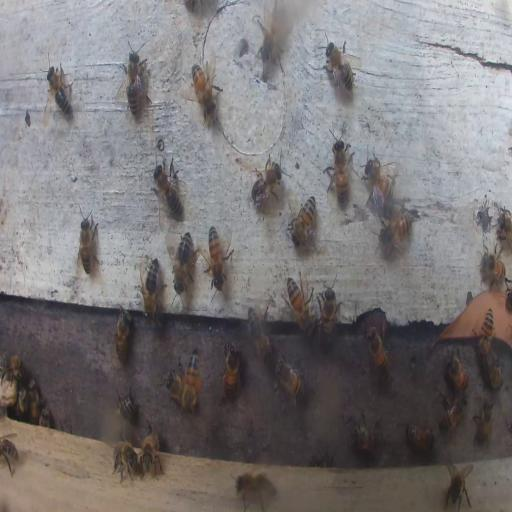bee: (323, 121, 353, 205), (284, 276, 318, 337), (121, 42, 148, 118), (191, 58, 222, 124), (380, 200, 414, 256), (153, 157, 183, 220), (256, 6, 284, 73), (323, 40, 356, 96), (249, 157, 283, 211), (363, 154, 397, 208), (275, 356, 306, 410), (206, 224, 232, 288), (246, 304, 274, 362), (288, 194, 317, 246), (45, 64, 74, 116), (443, 462, 473, 512), (351, 410, 384, 455), (170, 230, 194, 290), (182, 348, 202, 419), (139, 256, 162, 317), (112, 439, 142, 485), (319, 278, 338, 346), (79, 207, 97, 276), (234, 472, 277, 500), (472, 395, 494, 446), (222, 342, 241, 399), (438, 393, 465, 433), (142, 424, 162, 478), (113, 308, 132, 362), (366, 325, 388, 371), (445, 353, 469, 392), (479, 304, 495, 362), (404, 423, 436, 452), (164, 363, 186, 405), (480, 248, 505, 282), (0, 434, 19, 476), (117, 390, 137, 424), (2, 355, 23, 385), (496, 208, 512, 246), (27, 377, 41, 419), (488, 356, 502, 390), (15, 382, 27, 413), (504, 283, 512, 314), (39, 407, 50, 426)
